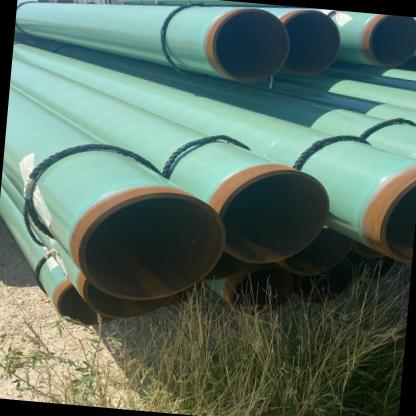clean: (121, 179, 180, 227)
